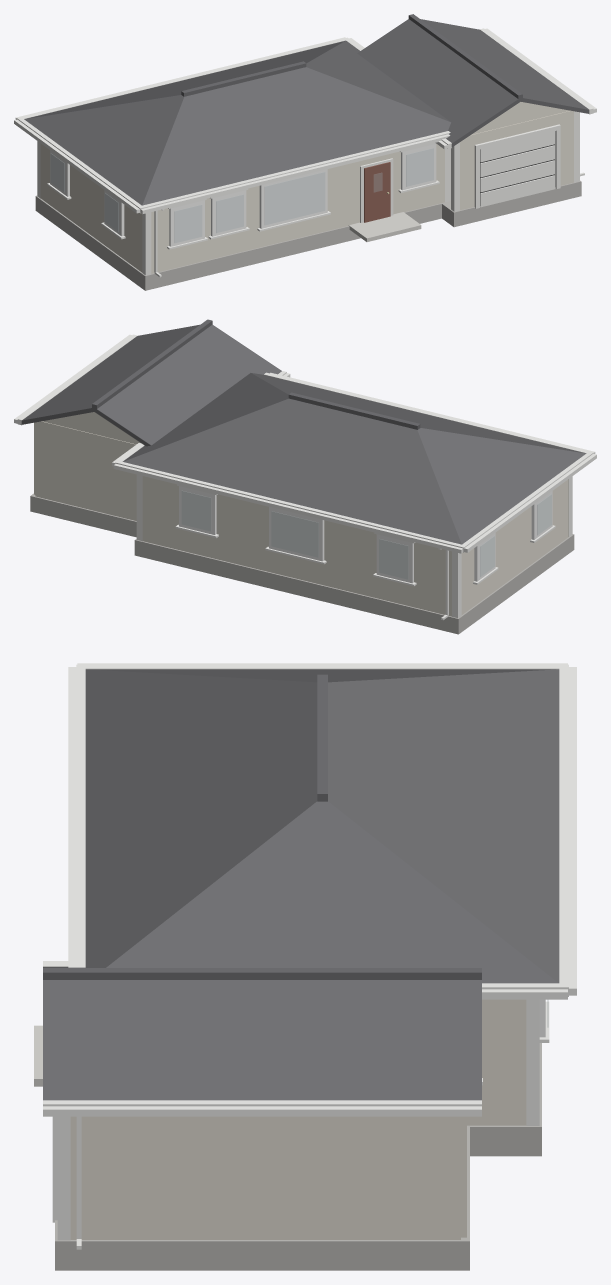
Rendered from house-ranch.glb.
3 renders of one model, top to bottom at view 1: azimuth 30°, elevation 25°; view 2: azimuth 150°, elevation 25°; view 3: azimuth 270°, elevation 25°, orthographic. The views are drawn at different scales.
Parts seen in each view (by area): view 1: Roof_Hip, Body_Front, Garage_Roof_Slope_B, Foundation, Garage_Door, Body_Left, Garage_Roof_Slope_A, Garage_Wall_Front, Window_Front_03_Frame, Window_Front_03_Glass, Garage_Foundation, Gutter_F_Gutter (+26 smaller); view 2: Roof_Hip, Body_Back, Garage_Roof_Slope_B, Foundation, Garage_Wall_Back, Body_Left, Garage_Roof_Slope_A, Window_Back_02_Frame, Gutter_B_Gutter, Garage_Foundation, Window_Back_02_Glass, Window_Back_01_Frame (+18 smaller); view 3: Roof_Hip, Garage_Roof_Slope_A, Garage_Wall_Side, Garage_Foundation, Body_Right, Garage_Roof_Ridge, Garage_Gutter_R_Gutter, Trim_Fascia_B, Garage_Trim_Fascia_A, Trim_Fascia_F, Trim_Fascia_L, Gutter_F_Gutter (+8 smaller).
Part boxes in pixels (x1=…): Roof_Hip: x1=24, y1=40, x2=450, y2=205; Body_Front: x1=151, y1=144, x2=444, y2=273; Garage_Roof_Slope_B: x1=357, y1=19, x2=520, y2=147; Foundation: x1=35, y1=195, x2=450, y2=290; Garage_Door: x1=480, y1=131, x2=555, y2=207; Body_Left: x1=40, y1=143, x2=142, y2=272; Garage_Roof_Slope_A: x1=420, y1=19, x2=589, y2=113; Garage_Wall_Front: x1=460, y1=110, x2=573, y2=210; Window_Front_03_Frame: x1=259, y1=169, x2=327, y2=228; Window_Front_03_Glass: x1=265, y1=172, x2=324, y2=224; Garage_Foundation: x1=442, y1=148, x2=581, y2=227; Gutter_F_Gutter: x1=140, y1=134, x2=450, y2=213; Roof_Hip: x1=123, y1=373, x2=585, y2=544; Body_Back: x1=142, y1=476, x2=451, y2=616; Garage_Roof_Slope_B: x1=94, y1=324, x2=281, y2=446; Foundation: x1=134, y1=534, x2=574, y2=634; Garage_Wall_Back: x1=35, y1=421, x2=136, y2=520; Body_Left: x1=461, y1=479, x2=568, y2=614; Garage_Roof_Slope_A: x1=21, y1=324, x2=199, y2=424; Window_Back_02_Frame: x1=269, y1=507, x2=324, y2=561; Gutter_B_Gutter: x1=113, y1=464, x2=463, y2=553; Garage_Foundation: x1=30, y1=493, x2=136, y2=537; Window_Back_02_Glass: x1=271, y1=511, x2=318, y2=557; Window_Back_01_Frame: x1=376, y1=534, x2=413, y2=583; Roof_Hip: x1=85, y1=669, x2=559, y2=983; Garage_Roof_Slope_A: x1=43, y1=980, x2=481, y2=1100; Garage_Wall_Side: x1=70, y1=1116, x2=460, y2=1239; Garage_Foundation: x1=55, y1=1127, x2=469, y2=1270; Body_Right: x1=467, y1=999, x2=526, y2=1125; Garage_Roof_Ridge: x1=43, y1=968, x2=481, y2=979; Garage_Gutter_R_Gutter: x1=43, y1=1106, x2=481, y2=1116; Trim_Fascia_B: x1=559, y1=664, x2=568, y2=996; Garage_Trim_Fascia_A: x1=43, y1=1100, x2=481, y2=1106; Trim_Fascia_F: x1=76, y1=664, x2=85, y2=967; Trim_Fascia_L: x1=76, y1=664, x2=568, y2=669; Gutter_F_Gutter: x1=68, y1=667, x2=76, y2=967.
Bounding box in the file's own units: 17.36 × 5 × 9.03.
